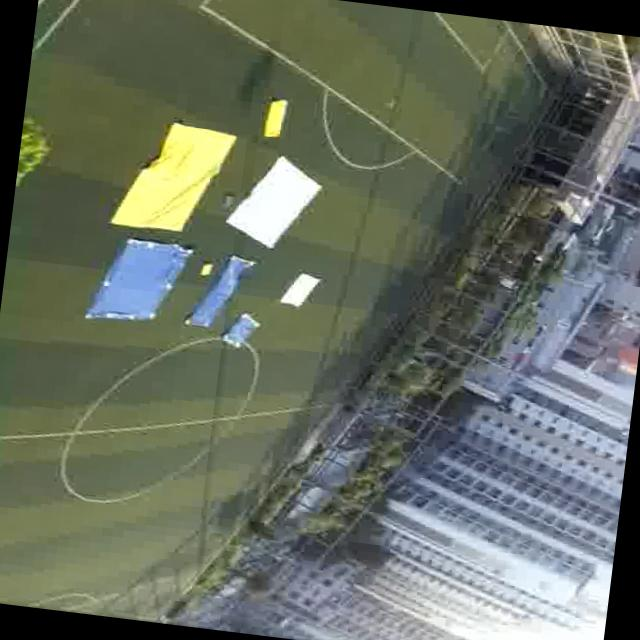danger: (80, 233, 190, 335), (208, 250, 257, 308), (216, 308, 266, 354)
safety: (221, 149, 326, 258), (270, 268, 330, 318)
warning: (106, 112, 240, 244), (252, 92, 297, 152)
